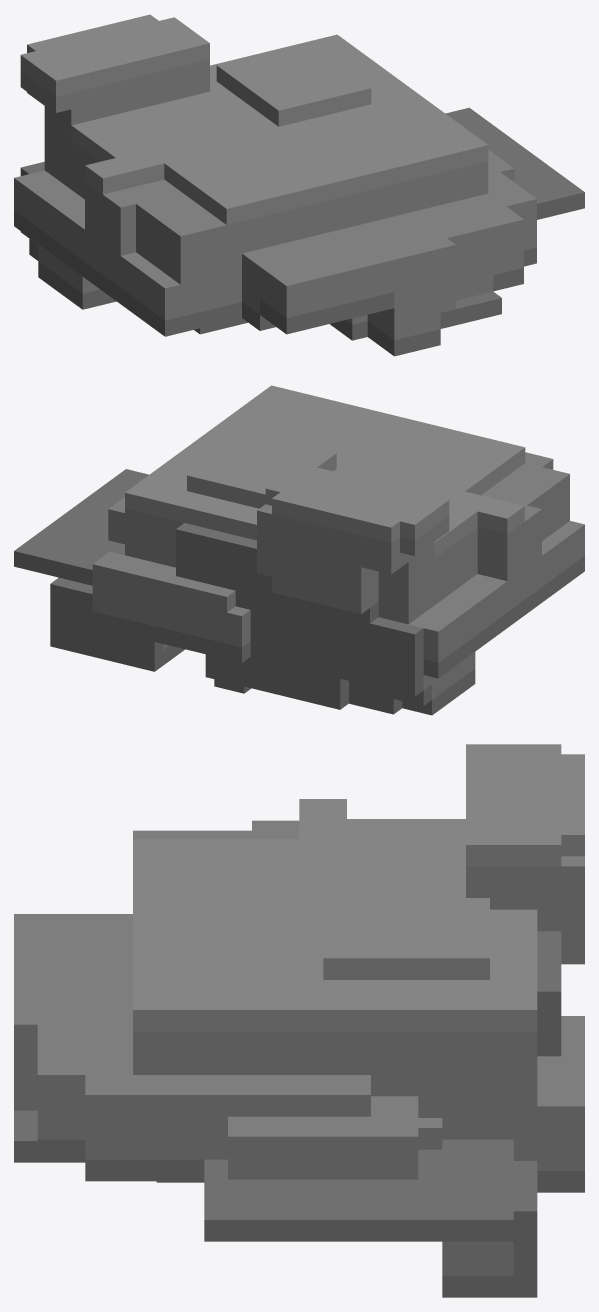
Rendered from Cloud.obj.
The picture shows the model from 3 angles, top to bottom: view 1: azimuth 30°, elevation 25°; view 2: azimuth 150°, elevation 25°; view 3: azimuth 270°, elevation 25°; orthographic projection. The views are drawn at different scales.
Bounding box in the file's own units: 2.9 × 1.4 × 2.4.
1 material, 1 textured.
